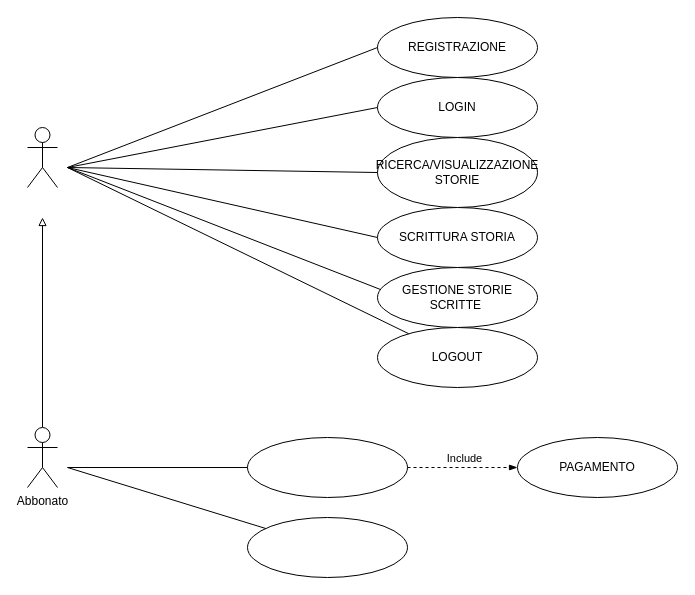
The diagram is 695 pixels wide and 595 high, and some of its shapes have lost their labels. Here are the shapes that lost their labels. From the top down, the box of each, then its label:
(26, 126, 58, 188): Utente
(246, 436, 408, 498): GIOCARE A UNA STORIA
(246, 516, 408, 578): GESTIONE STORIE GIOCATE
